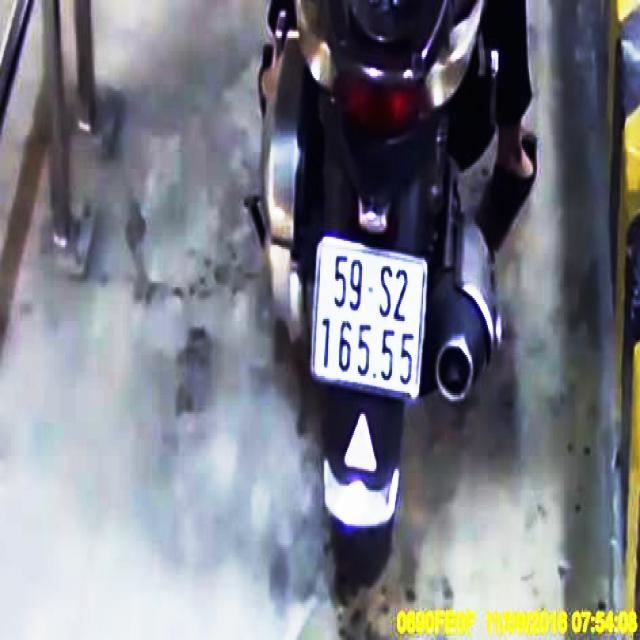license_plate: (313, 237, 427, 398)
